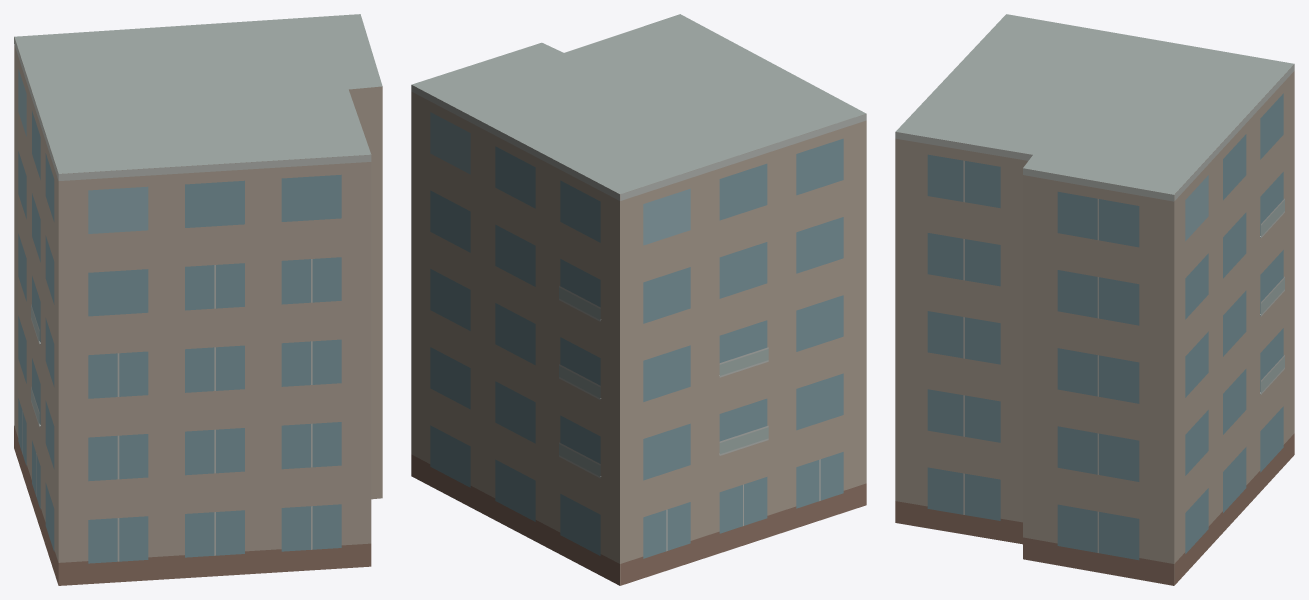
File: survey-upis-32953811.glb
3 views of the same model, side by side, from view 1: azimuth 30°, elevation 25°; view 2: azimuth 150°, elevation 25°; view 3: azimuth 270°, elevation 25° (orthographic). The views are drawn at different scales.
Parts seen in each view (by area): view 1: survey-upis-32953811.tmp; view 2: survey-upis-32953811.tmp; view 3: survey-upis-32953811.tmp.
Part boxes in pixels (x1,y1,x2,y2): survey-upis-32953811.tmp: (14, 14, 382, 585); survey-upis-32953811.tmp: (411, 14, 866, 585); survey-upis-32953811.tmp: (895, 14, 1294, 585).
Size of the model in its own units: 13.9 by 14 by 12.96.
